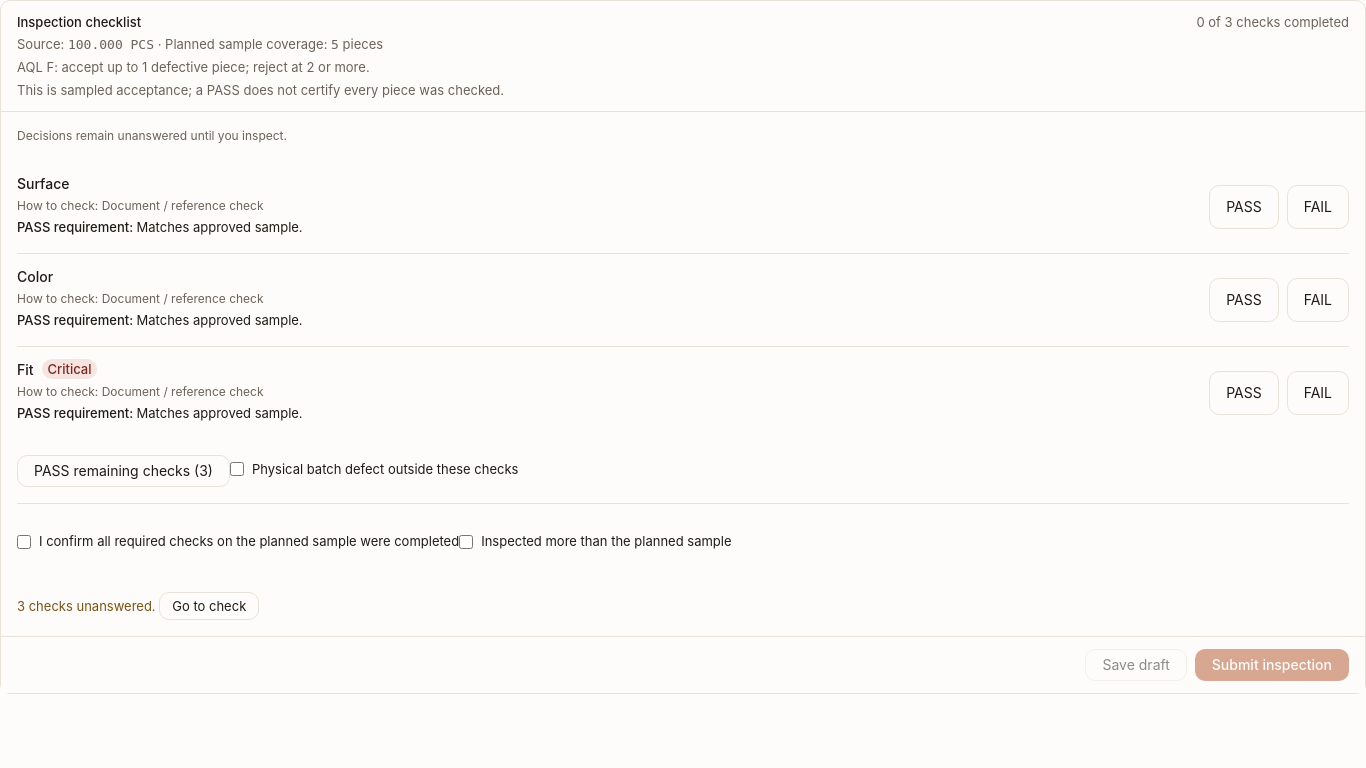
Test: requires performance attestation before marking remaining checks passed
This screenshot has width=1366, height=768.
Click the button "PASS remaining checks (3)".
click(124, 470)  # box [17,454,230,486]
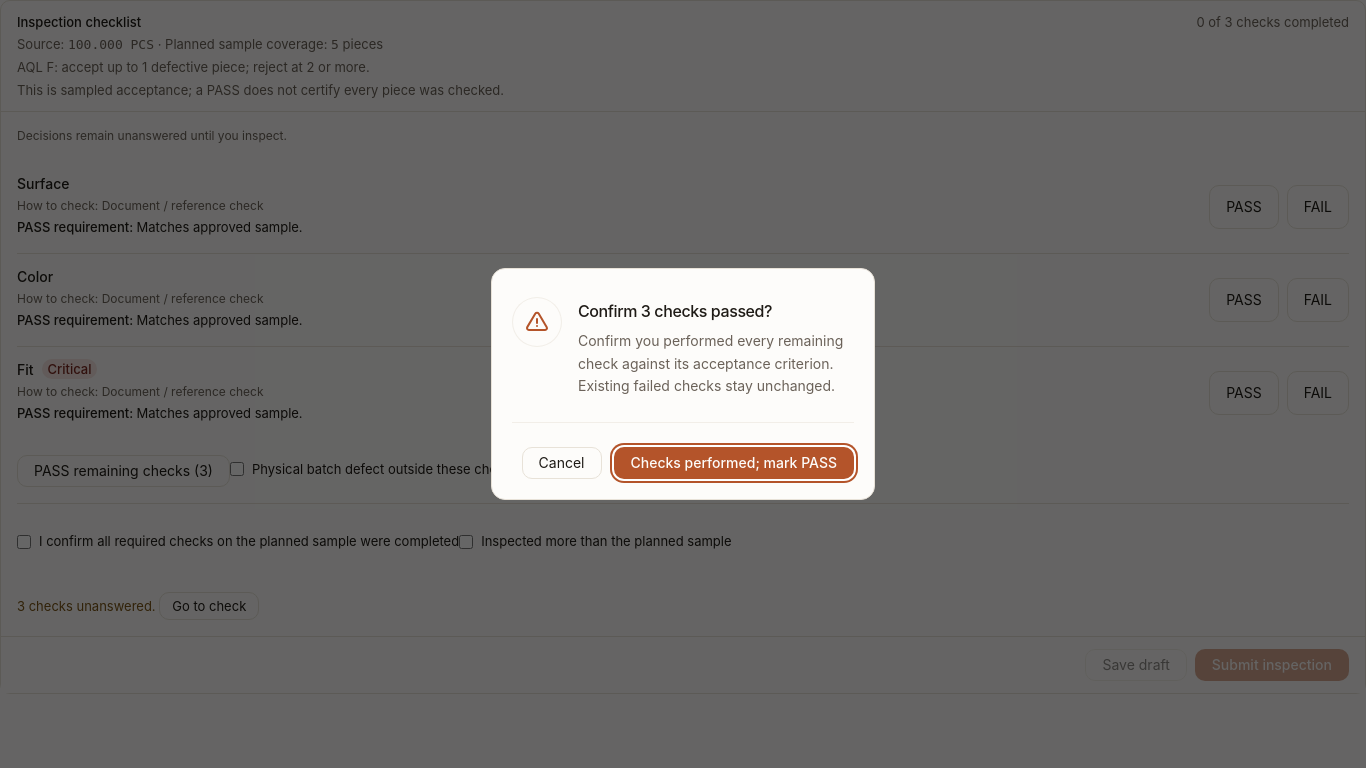
Click the button "Checks performed; mark PASS".
click(734, 463)  # box [614,447,854,479]
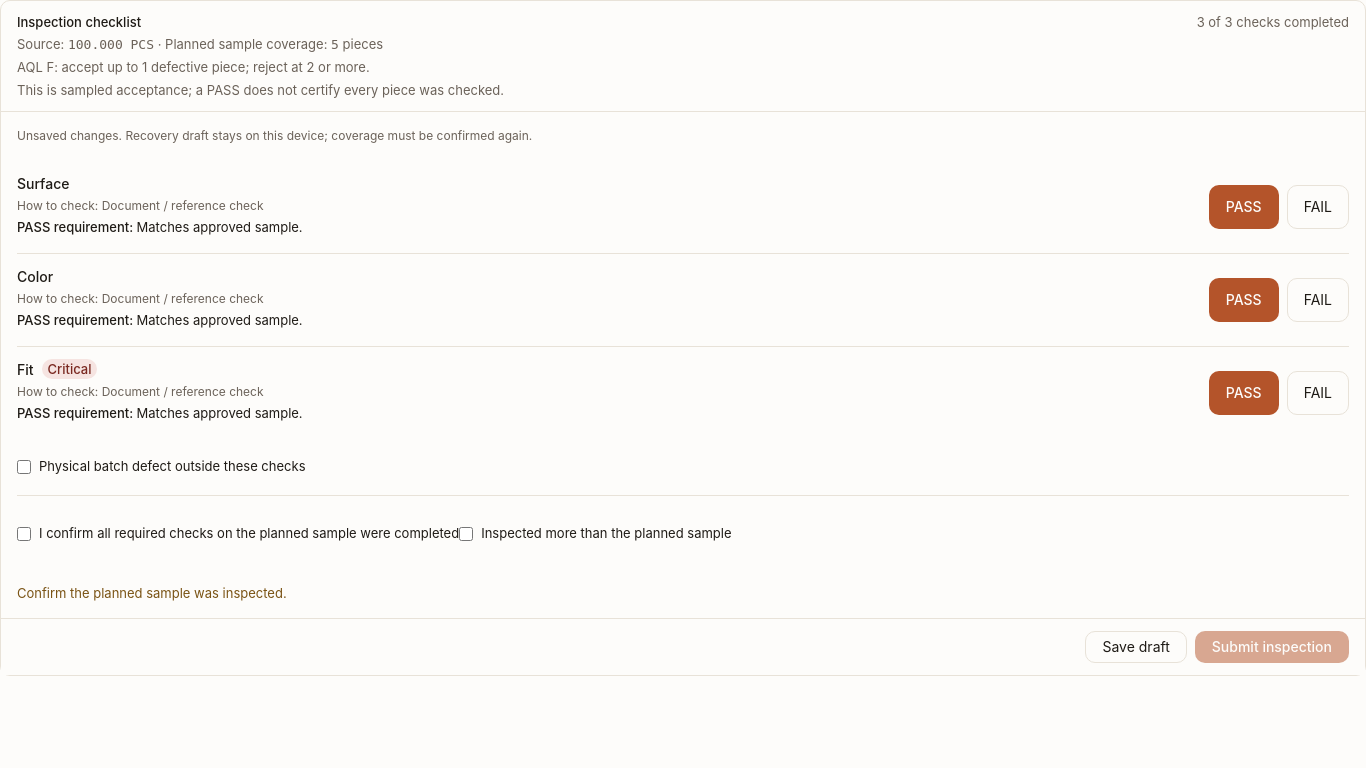
Check: the dialog is gone
